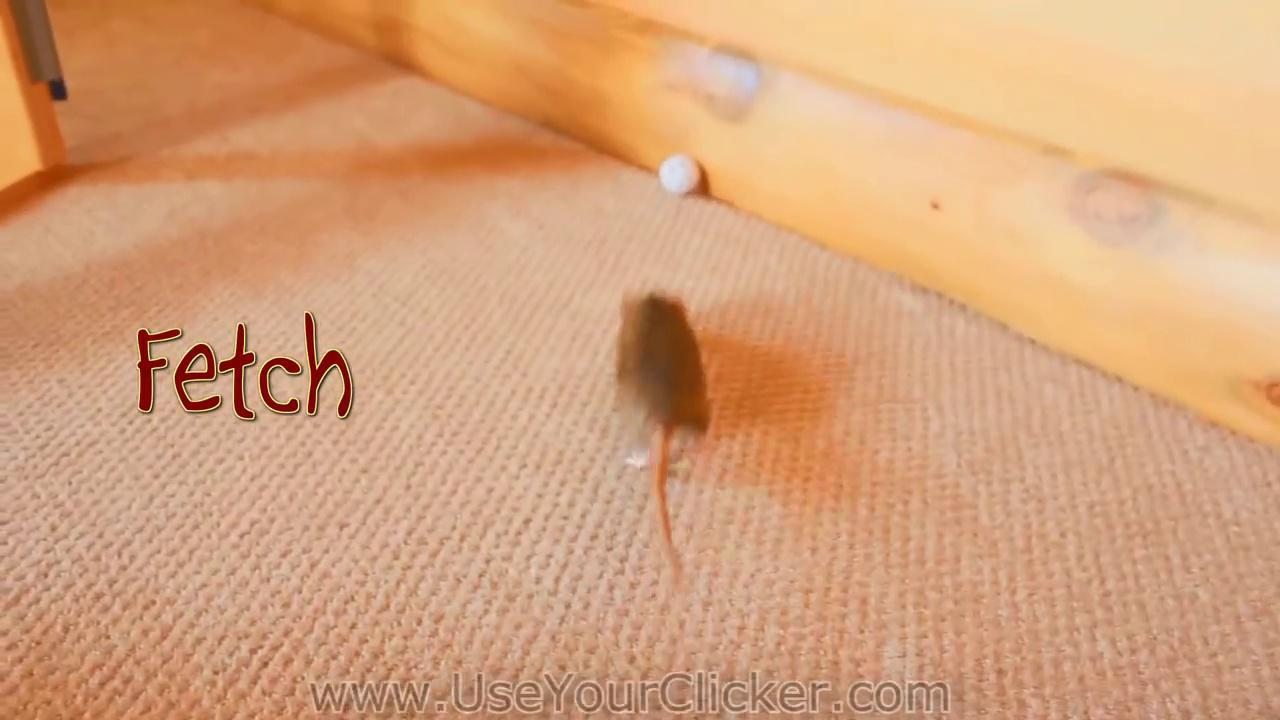rat: (617, 293, 713, 470)
